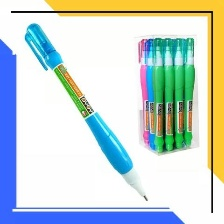correction_fluid: (21, 21, 150, 204), (136, 38, 153, 145), (161, 36, 176, 152), (181, 36, 196, 148), (153, 36, 166, 152), (172, 35, 185, 150), (143, 37, 156, 150)
plastic_box: (131, 32, 203, 157)
